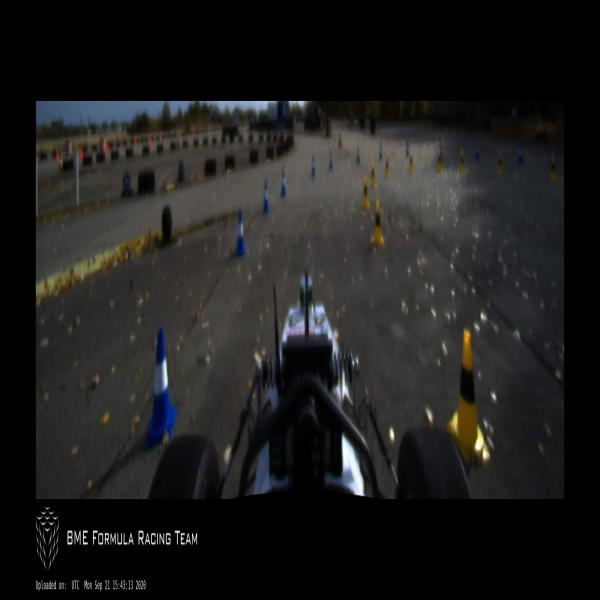blue_cone: (144, 327, 176, 450), (235, 210, 246, 256), (262, 182, 269, 212), (280, 170, 286, 196), (518, 143, 523, 163), (329, 150, 333, 169), (311, 157, 315, 176), (475, 142, 479, 159), (357, 146, 360, 163), (380, 143, 382, 158)
yellow_cone: (447, 330, 490, 462), (371, 200, 384, 244), (362, 177, 369, 208), (550, 155, 556, 183), (459, 150, 465, 172), (371, 162, 376, 188), (497, 153, 503, 174), (438, 149, 442, 172), (385, 155, 389, 177), (409, 153, 413, 173)
